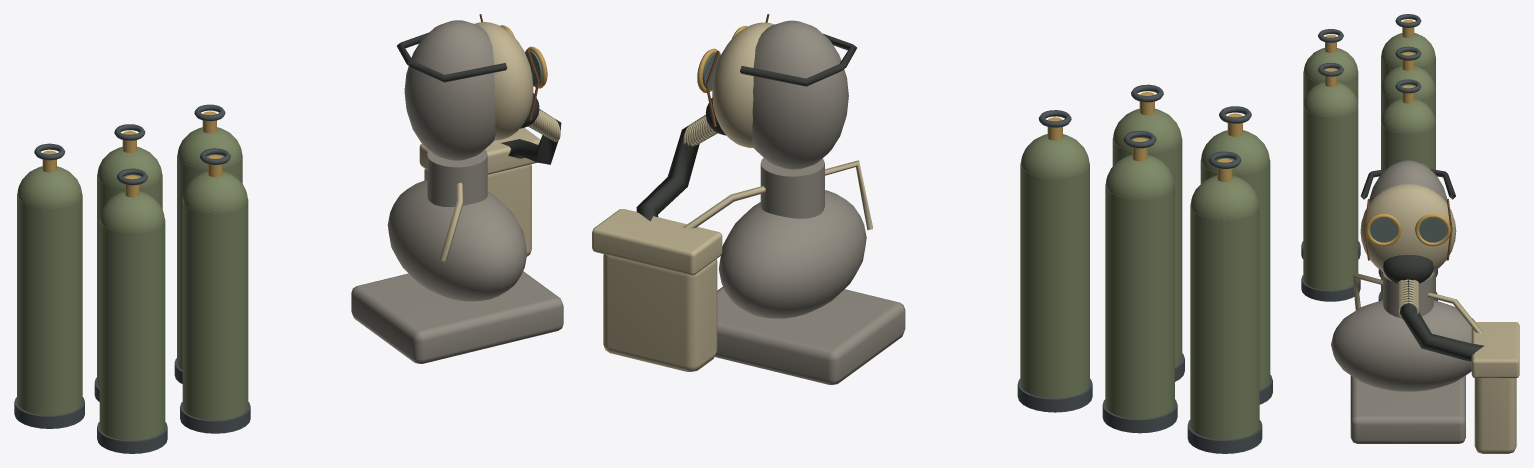
File: small_box_respirator_1916_web.glb
The picture shows the model from 3 angles, left to right: view 1: azimuth 30°, elevation 25°; view 2: azimuth 150°, elevation 25°; view 3: azimuth 270°, elevation 25°; orthographic projection. The views are drawn at different scales.
Parts seen in each view (by area): view 1: Olive_Painted_Metal, Neutral_Display_Bust, Canvas_Linen, Dark_Blued_Steel, Rubber, Brass; view 2: Olive_Painted_Metal, Neutral_Display_Bust, Canvas_Linen, Dark_Blued_Steel, Rubber, Brass; view 3: Olive_Painted_Metal, Neutral_Display_Bust, Canvas_Linen, Rubber, Dark_Blued_Steel, Brass, Eyepiece_Glass, Walnut_Wood.
Part boxes in pixels (x1=…): Olive_Painted_Metal: x1=17, y1=127, x2=248, y2=440; Neutral_Display_Bust: x1=351, y1=20, x2=563, y2=363; Canvas_Linen: x1=419, y1=22, x2=560, y2=261; Dark_Blued_Steel: x1=14, y1=104, x2=250, y2=453; Rubber: x1=397, y1=32, x2=561, y2=164; Brass: x1=42, y1=25, x2=547, y2=197; Olive_Painted_Metal: x1=1020, y1=108, x2=1270, y2=439; Neutral_Display_Bust: x1=714, y1=20, x2=905, y2=384; Canvas_Linen: x1=592, y1=22, x2=872, y2=371; Dark_Blued_Steel: x1=1017, y1=84, x2=1272, y2=453; Rubber: x1=636, y1=33, x2=856, y2=221; Brass: x1=697, y1=26, x2=1242, y2=181; Olive_Painted_Metal: x1=1303, y1=33, x2=1435, y2=299; Neutral_Display_Bust: x1=1331, y1=160, x2=1475, y2=443; Canvas_Linen: x1=1352, y1=183, x2=1519, y2=453; Rubber: x1=1360, y1=169, x2=1484, y2=361; Dark_Blued_Steel: x1=1301, y1=14, x2=1437, y2=301; Brass: x1=1325, y1=19, x2=1450, y2=246; Eyepiece_Glass: x1=1370, y1=218, x2=1446, y2=242; Walnut_Wood: x1=1364, y1=199, x2=1452, y2=260.
Size of the model in its own units: 3.86 by 1.98 by 1.55.
